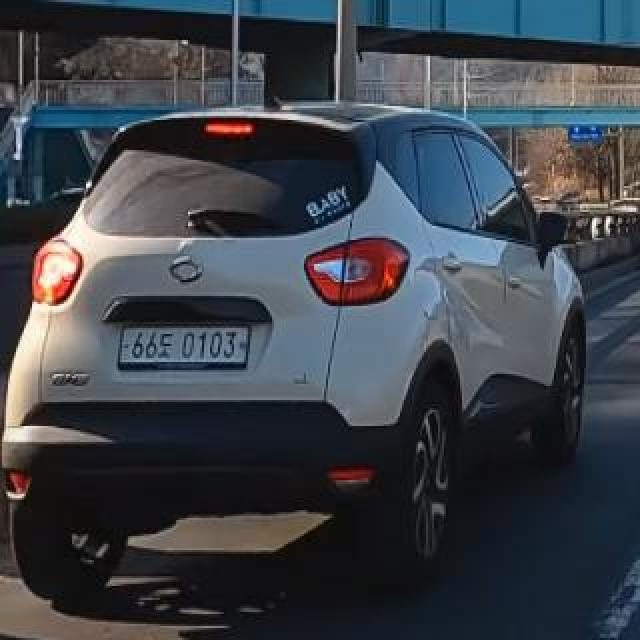car: (3, 93, 619, 607)
illegal_plate: (120, 322, 250, 371)
